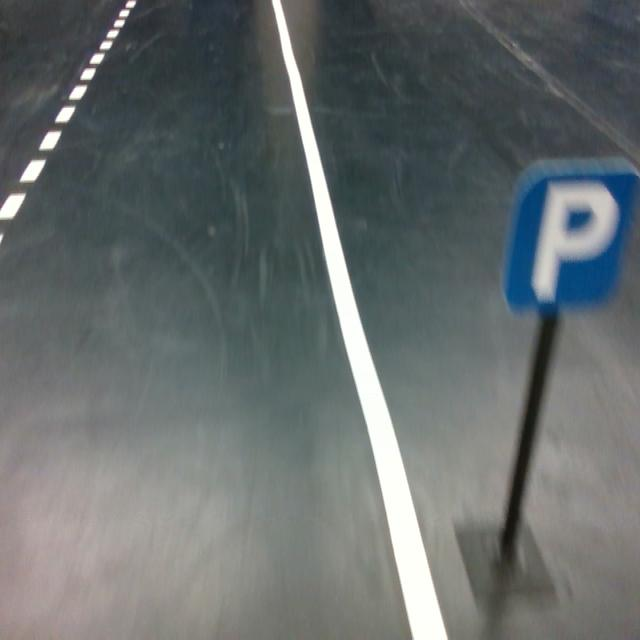parking-sign: (501, 156, 640, 312)
